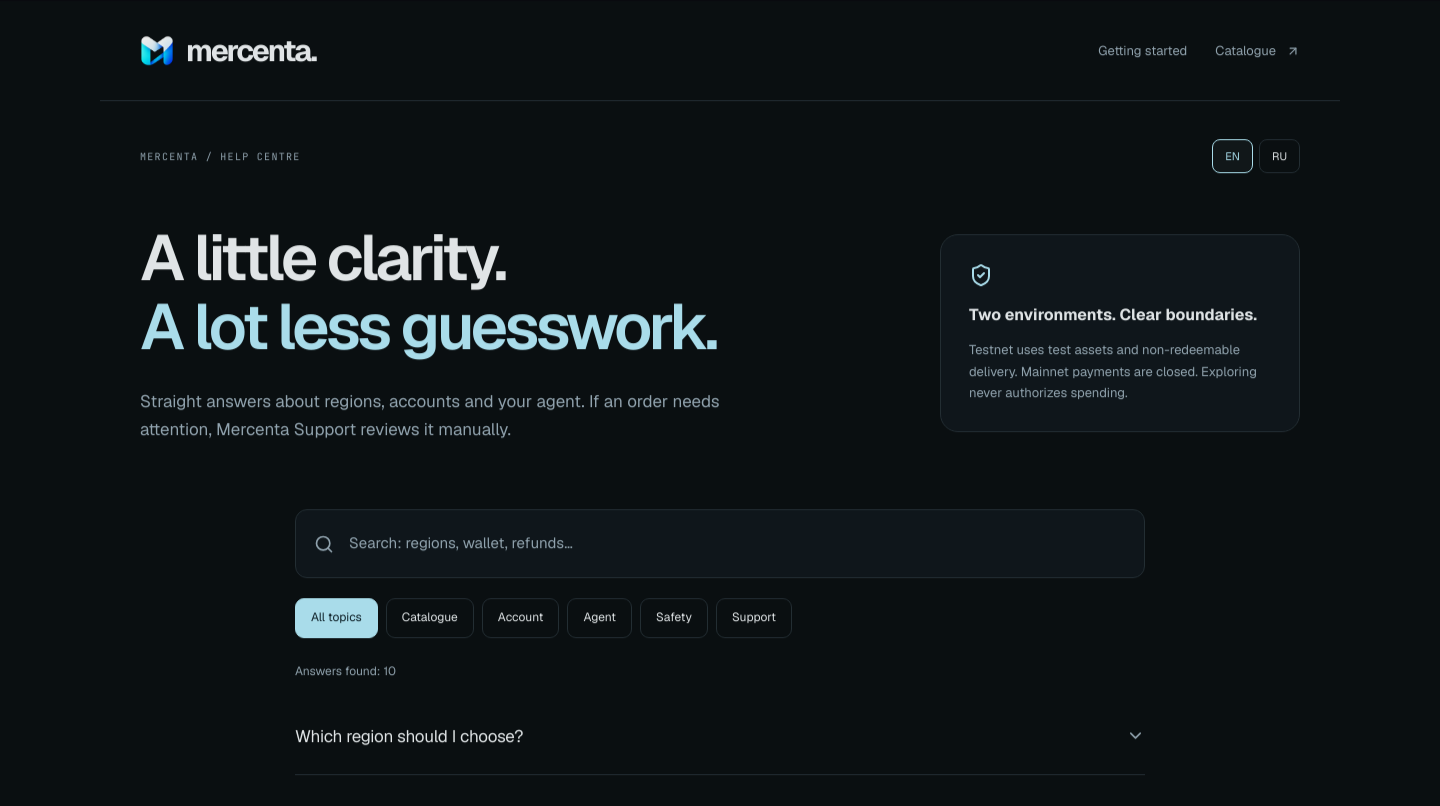
Test: switches all guide content to Russian without replacing official contact details
Click the button "RU". click: x=1280, y=155
box: top-left (1259, 138), bottom-right (1300, 172)
(page scrolled)
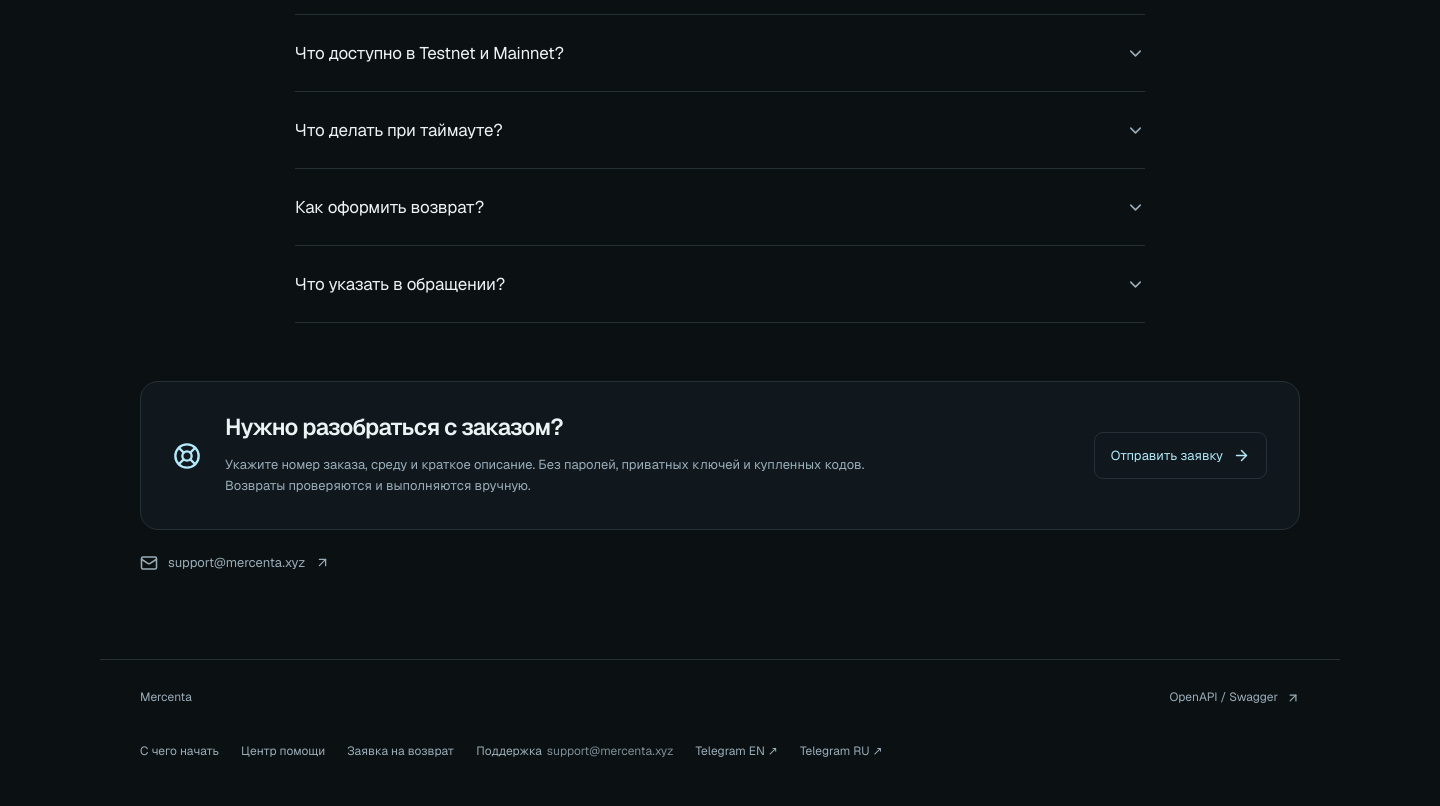
Check: the link to "mailto:support@mercenta.xyz" is shown, box top-left (140, 552), bottom-right (330, 573)
Check: the text "Как оформить возврат" is shown, box top-left (295, 196), bottom-right (1145, 218)
